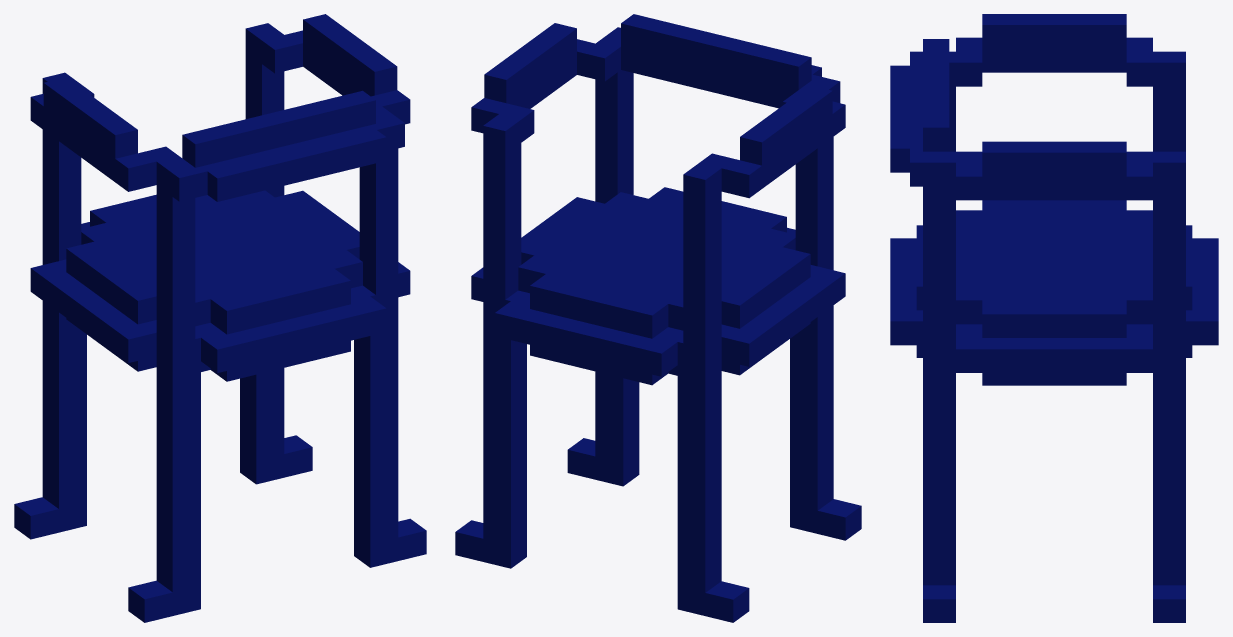
File: obj2blu.glb
3 views of the same model, side by side, from view 1: azimuth 30°, elevation 25°; view 2: azimuth 150°, elevation 25°; view 3: azimuth 270°, elevation 25° (orthographic). The views are drawn at different scales.
Parts seen in each view (by area): view 1: Brep; view 2: Brep; view 3: Brep.
Part boxes in pixels (box(x1,y1,x2,y2)): Brep: box(14, 14, 426, 622); Brep: box(455, 14, 861, 622); Brep: box(890, 14, 1218, 622).
Bounding box in the file's own units: 5 × 7.9 × 5.
